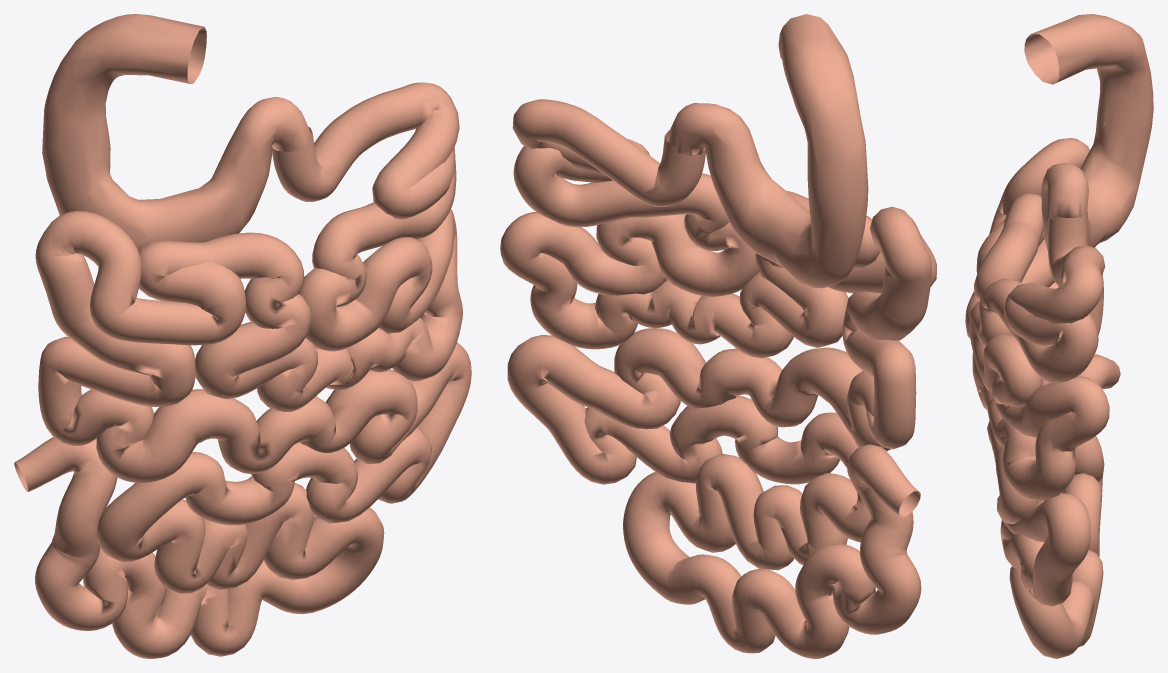
Rendered from intestino-delgado.glb.
The picture shows the model from 3 angles, left to right: view 1: azimuth 30°, elevation 25°; view 2: azimuth 150°, elevation 25°; view 3: azimuth 270°, elevation 25°; orthographic projection. The views are drawn at different scales.
Parts seen in each view (by area): view 1: Jejunum, Duodenum; view 2: Jejunum, Duodenum; view 3: Jejunum, Duodenum.
Part boxes in pixels (box(x1,y1,x2,y2)): Jejunum: box(14, 82, 471, 658); Duodenum: box(42, 14, 311, 251); Jejunum: box(500, 99, 936, 658); Duodenum: box(667, 14, 868, 288); Jejunum: box(965, 138, 1120, 658); Duodenum: box(1024, 14, 1153, 250).
Bounding box in the file's own units: 0.183 × 0.2622 × 0.0752.
